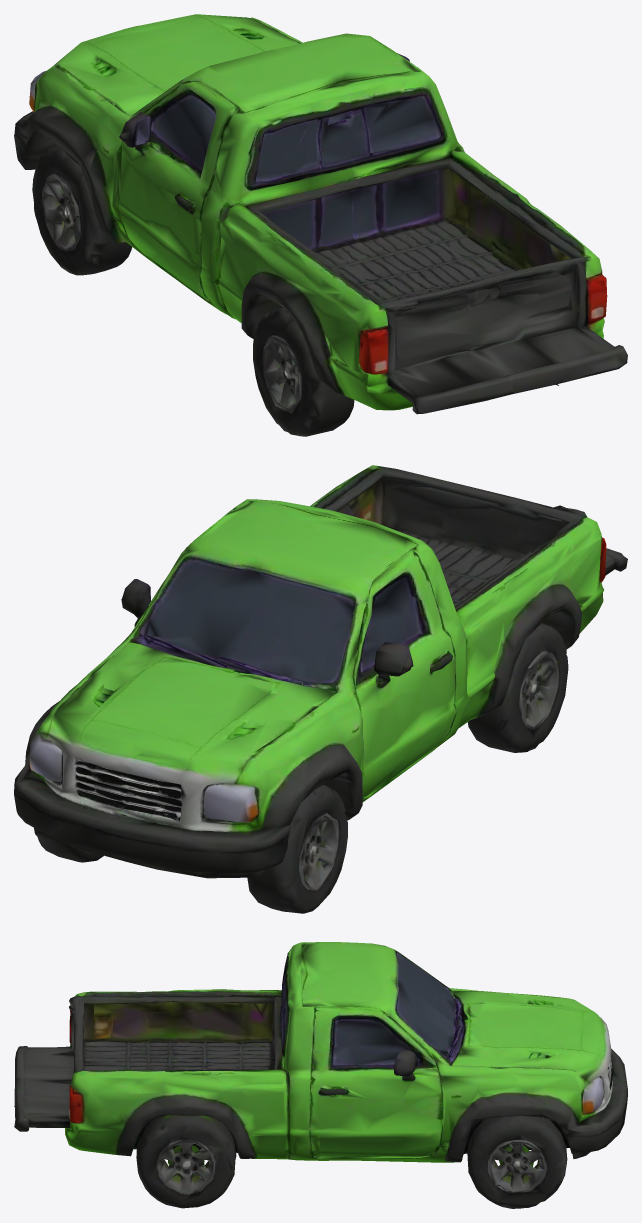
File: car_pickup.glb
The picture shows the model from 3 angles, top to bottom: view 1: azimuth 30°, elevation 25°; view 2: azimuth 150°, elevation 25°; view 3: azimuth 270°, elevation 25°; orthographic projection. The views are drawn at different scales.
Parts seen in each view (by area): view 1: tripo_node_5fe7c0c2-0ed9-40f1-8020-45fc53b40d40; view 2: tripo_node_5fe7c0c2-0ed9-40f1-8020-45fc53b40d40; view 3: tripo_node_5fe7c0c2-0ed9-40f1-8020-45fc53b40d40.
Boxes of the visible parts, x1=… form: tripo_node_5fe7c0c2-0ed9-40f1-8020-45fc53b40d40: x1=14, y1=14, x2=627, y2=436; tripo_node_5fe7c0c2-0ed9-40f1-8020-45fc53b40d40: x1=14, y1=465, x2=627, y2=913; tripo_node_5fe7c0c2-0ed9-40f1-8020-45fc53b40d40: x1=14, y1=942, x2=627, y2=1208.
Size of the model in its own units: 0.3965 by 0.3446 by 0.9801.
1 material, 1 textured.
